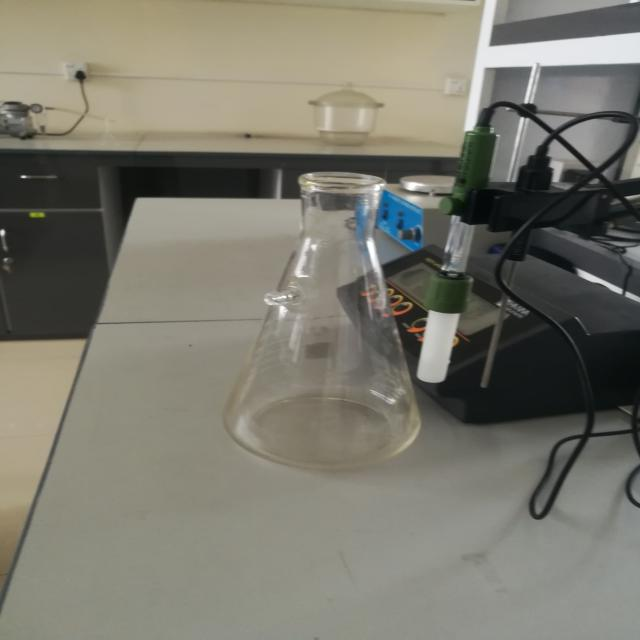Conical_Flask: (194, 149, 464, 489)
